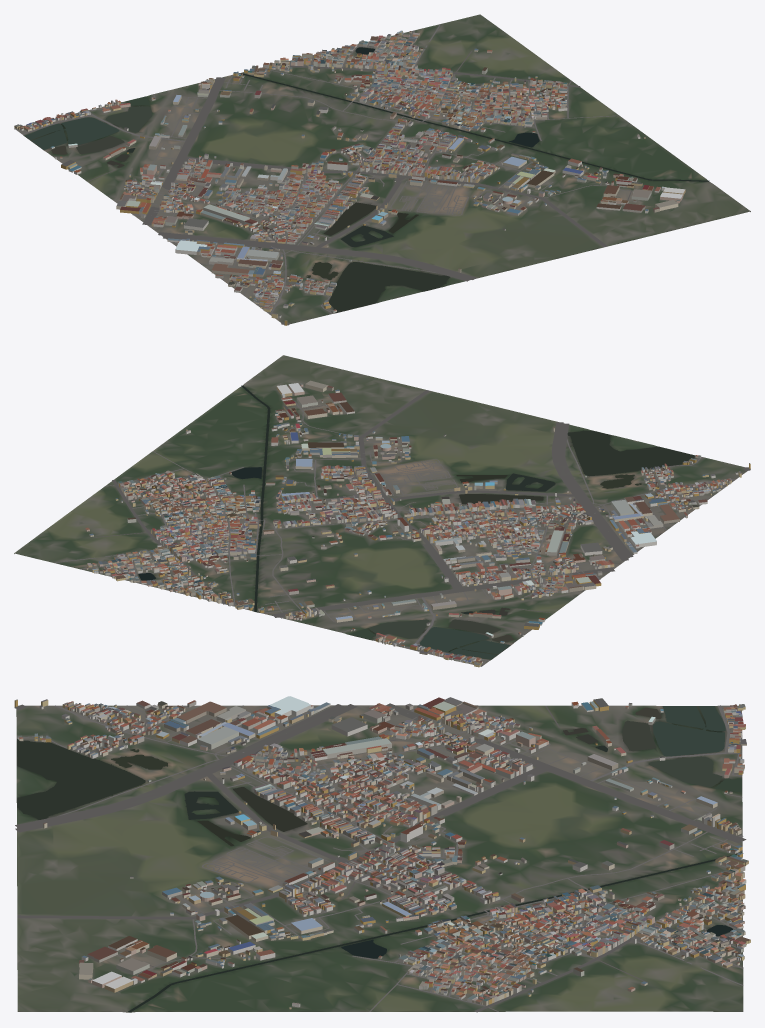
3 views of the same model, one above another, from view 1: azimuth 30°, elevation 25°; view 2: azimuth 150°, elevation 25°; view 3: azimuth 270°, elevation 25° (orthographic). The views are drawn at different scales.
Visible parts, largest first — view 1: ground, buildings, roads, water; view 2: ground, buildings, roads, water; view 3: ground, buildings, water, roads.
Boxes of the visible parts, x1,y1,x2,y2 form: ground: (14, 14, 750, 325); buildings: (14, 30, 685, 325); roads: (15, 24, 632, 325); water: (24, 47, 709, 312); ground: (14, 355, 750, 666); buildings: (85, 380, 750, 667); roads: (54, 390, 750, 666); water: (138, 385, 695, 659); ground: (16, 705, 743, 1012); buildings: (14, 696, 750, 1009); water: (17, 706, 743, 1012); roads: (14, 703, 746, 1012).
Bounding box in the file's own units: 1424 × 23.91 × 1424.
